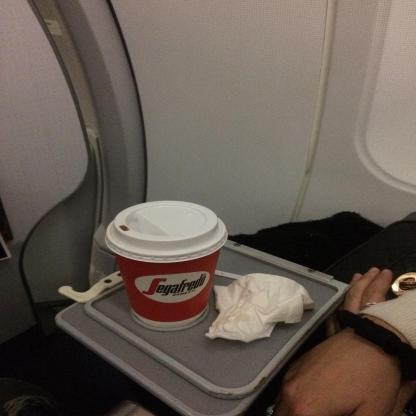kagit: (206, 274, 315, 346)
karton: (106, 201, 230, 330)
